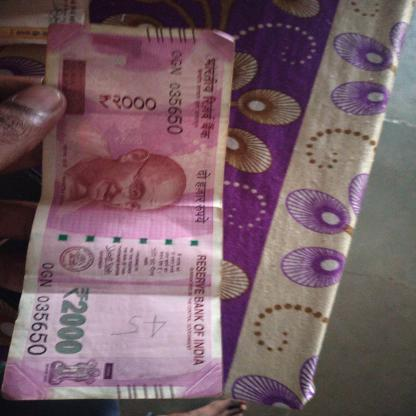New2000Front: (23, 27, 221, 403)
